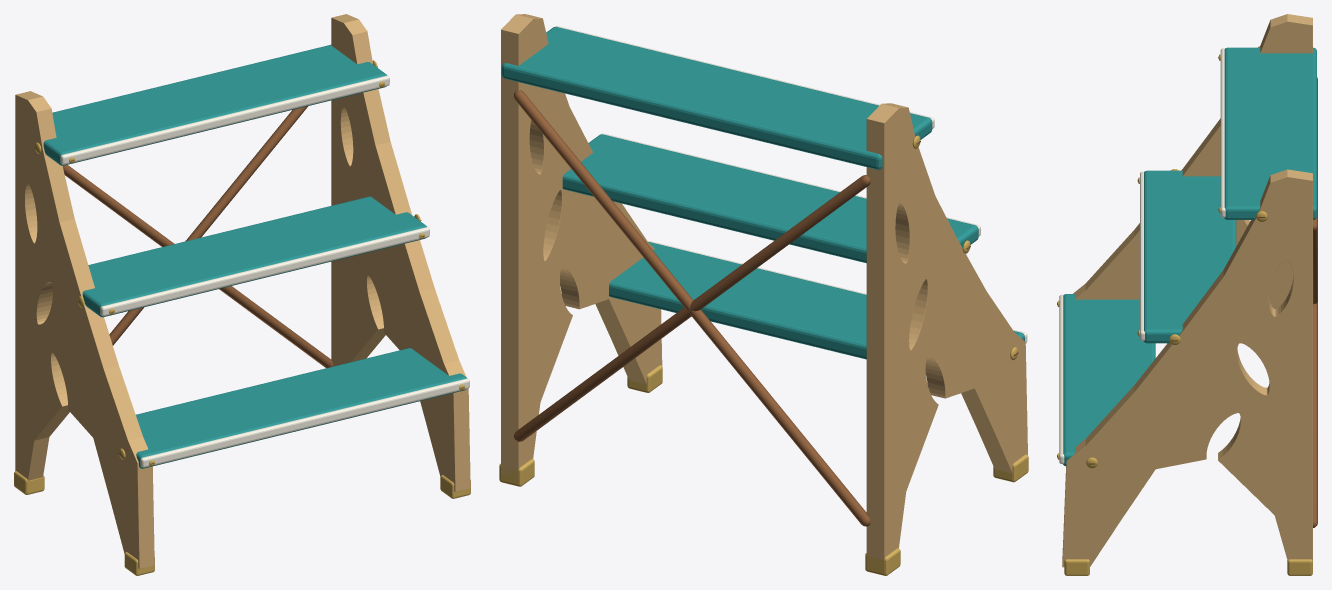
File: stand_botanical.glb
3 views of the same model, side by side, from view 1: azimuth 30°, elevation 25°; view 2: azimuth 150°, elevation 25°; view 3: azimuth 270°, elevation 25° (orthographic). The views are drawn at different scales.
Visible parts, largest first — view 1: Pierced_botanical_side_panel, Pierced_botanical_side_panel.001, Flat_display_tray.001, Flat_display_tray.002, Flat_display_tray, Cream_tray_edge.001, Cream_tray_edge, Cream_tray_edge.002, Rear_cross_brace.001, Rear_cross_brace; view 2: Pierced_botanical_side_panel, Pierced_botanical_side_panel.001, Flat_display_tray.002, Flat_display_tray.001, Flat_display_tray, Rear_cross_brace, Rear_cross_brace.001; view 3: Pierced_botanical_side_panel.001, Flat_display_tray.002, Flat_display_tray.001, Flat_display_tray, Pierced_botanical_side_panel, Rear_cross_brace.001, Cream_tray_edge.002, Cream_tray_edge, Cream_tray_edge.001, Brass_capped_foot.002, Brass_capped_foot.003, Rear_cross_brace.
Boxes of the visible parts, left/top/right/bottom form: Pierced_botanical_side_panel: left=15, top=91, right=154, bottom=569; Pierced_botanical_side_panel.001: left=331, top=14, right=470, bottom=491; Flat_display_tray.001: left=82, top=196, right=426, bottom=317; Flat_display_tray.002: left=43, top=44, right=387, bottom=165; Flat_display_tray: left=136, top=348, right=467, bottom=468; Cream_tray_edge.001: left=100, top=227, right=429, bottom=316; Cream_tray_edge: left=140, top=378, right=469, bottom=467; Cream_tray_edge.002: left=60, top=75, right=389, bottom=164; Rear_cross_brace.001: left=62, top=165, right=333, bottom=368; Rear_cross_brace: left=109, top=106, right=308, bottom=345; Pierced_botanical_side_panel: left=866, top=103, right=1027, bottom=563; Pierced_botanical_side_panel.001: left=501, top=14, right=662, bottom=477; Flat_display_tray.002: left=501, top=27, right=932, bottom=169; Flat_display_tray.001: left=562, top=134, right=978, bottom=263; Flat_display_tray: left=609, top=242, right=1024, bottom=359; Rear_cross_brace: left=513, top=90, right=870, bottom=526; Rear_cross_brace.001: left=513, top=175, right=870, bottom=441; Pierced_botanical_side_panel.001: left=1062, top=169, right=1312, bottom=567; Flat_display_tray.002: left=1224, top=47, right=1316, bottom=219; Flat_display_tray.001: left=1143, top=170, right=1236, bottom=343; Flat_display_tray: left=1063, top=294, right=1155, bottom=466; Pierced_botanical_side_panel: left=1073, top=14, right=1312, bottom=308; Rear_cross_brace.001: left=1313, top=77, right=1317, bottom=527; Cream_tray_edge.002: left=1220, top=48, right=1225, bottom=217; Cream_tray_edge: left=1059, top=294, right=1064, bottom=463; Cream_tray_edge.001: left=1140, top=171, right=1144, bottom=340; Brass_capped_foot.002: left=1287, top=559, right=1312, bottom=575; Brass_capped_foot.003: left=1064, top=559, right=1089, bottom=575; Rear_cross_brace: left=1313, top=222, right=1317, bottom=304.
Bounding box in the file's own units: 0.9346 × 1.04 × 0.6146.
